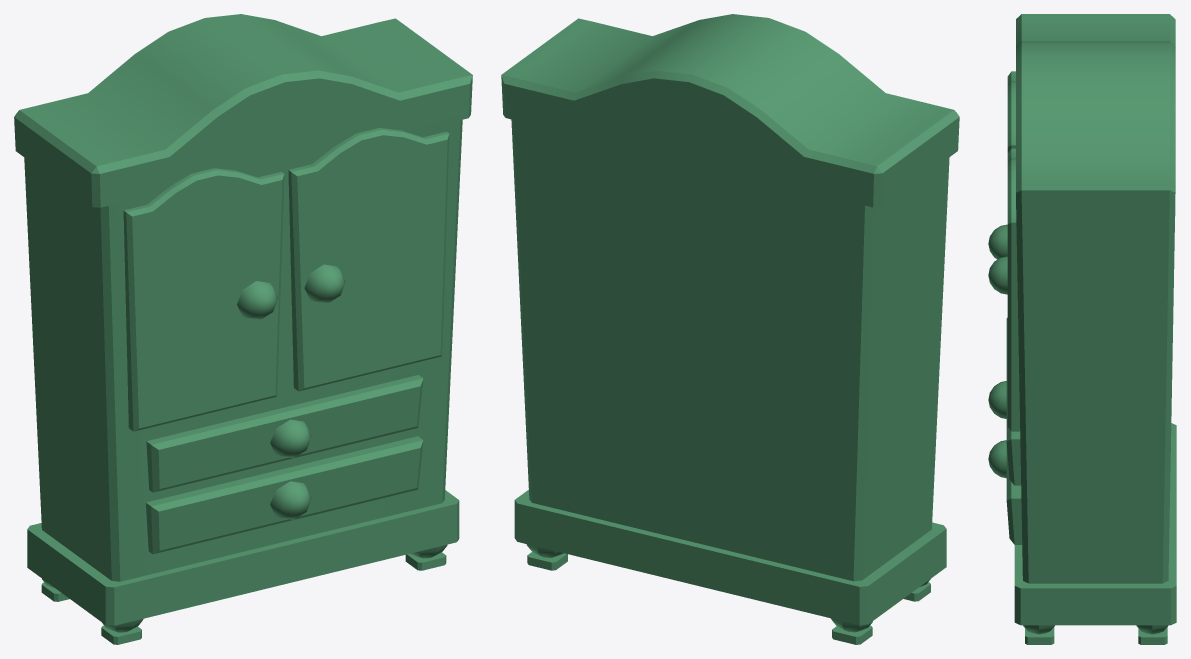
Rendered from Closet_V3.fbx.
The picture shows the model from 3 angles, left to right: view 1: azimuth 30°, elevation 25°; view 2: azimuth 150°, elevation 25°; view 3: azimuth 270°, elevation 25°; orthographic projection. The views are drawn at different scales.
Visible parts, largest first — view 1: Closet; view 2: Closet; view 3: Closet.
Part boxes in pixels (bbox=[...]): Closet: bbox=[14, 14, 472, 644]; Closet: bbox=[501, 14, 959, 644]; Closet: bbox=[988, 14, 1176, 644].
Size of the model in its own units: 294 by 392 by 131.
